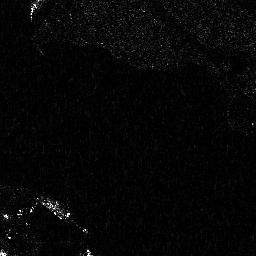ship: (34, 194, 90, 235)
